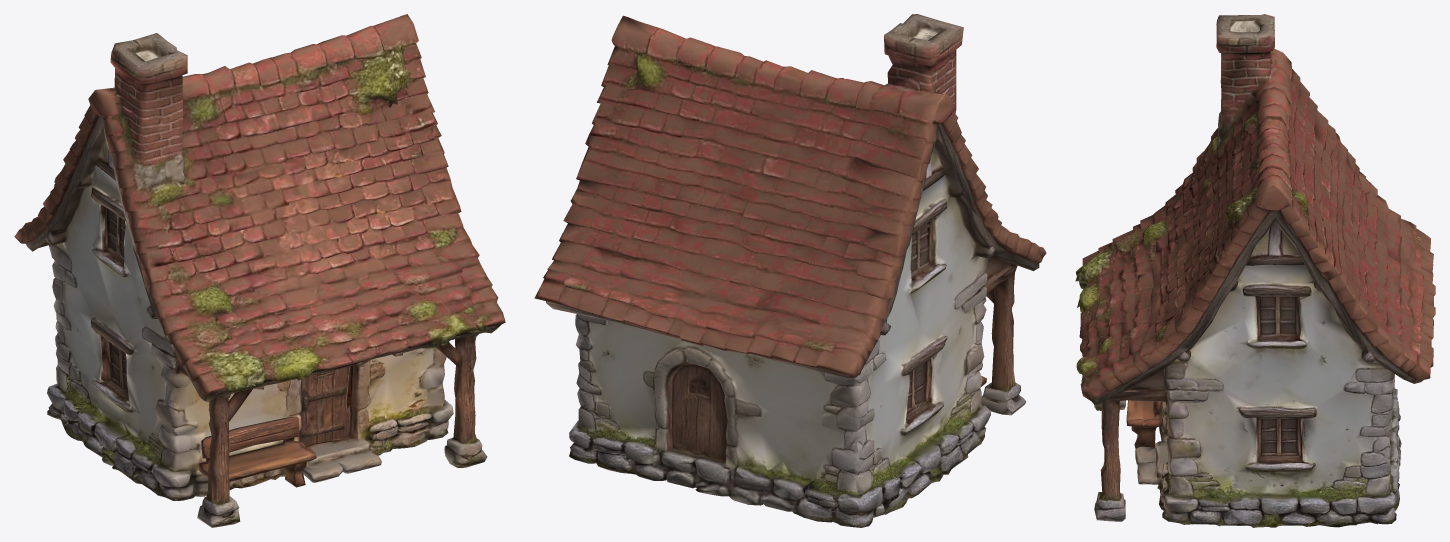
Rendered from town_house_cottage_redtile.glb.
3 renders of one model, left to right at view 1: azimuth 30°, elevation 25°; view 2: azimuth 150°, elevation 25°; view 3: azimuth 270°, elevation 25°, orthographic. The views are drawn at different scales.
Visible parts, largest first — view 1: tripo_node_d5e71b3b-73fb-4d53-b841-1fc2b6e7c481; view 2: tripo_node_d5e71b3b-73fb-4d53-b841-1fc2b6e7c481; view 3: tripo_node_d5e71b3b-73fb-4d53-b841-1fc2b6e7c481.
Part boxes in pixels (x1,y1,x2,y2): tripo_node_d5e71b3b-73fb-4d53-b841-1fc2b6e7c481: (14, 14, 505, 527); tripo_node_d5e71b3b-73fb-4d53-b841-1fc2b6e7c481: (534, 14, 1046, 527); tripo_node_d5e71b3b-73fb-4d53-b841-1fc2b6e7c481: (1075, 14, 1435, 527).
Size of the model in its own units: 4.71 by 6 by 5.1.
Materials: 1 (1 with a texture image).
